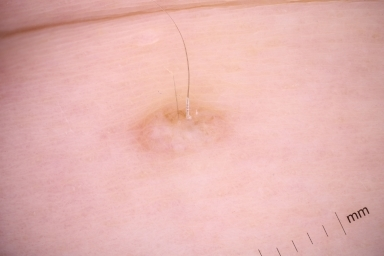nevus: (127, 102, 234, 164)
